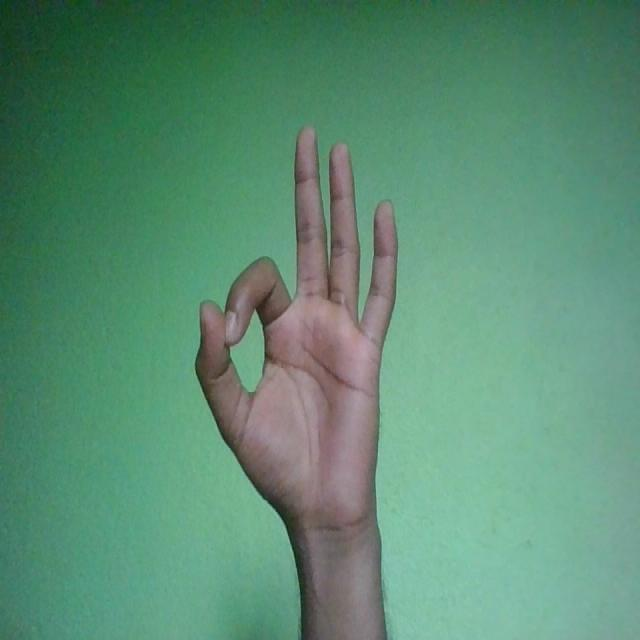Rock On: (194, 122, 399, 540)
